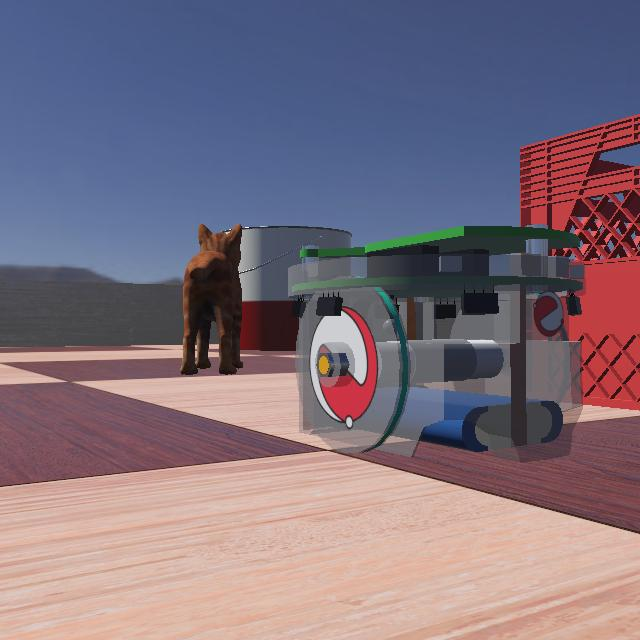cat: (144, 182, 252, 386), (144, 182, 252, 386)
plastic-crate: (490, 47, 640, 441)
